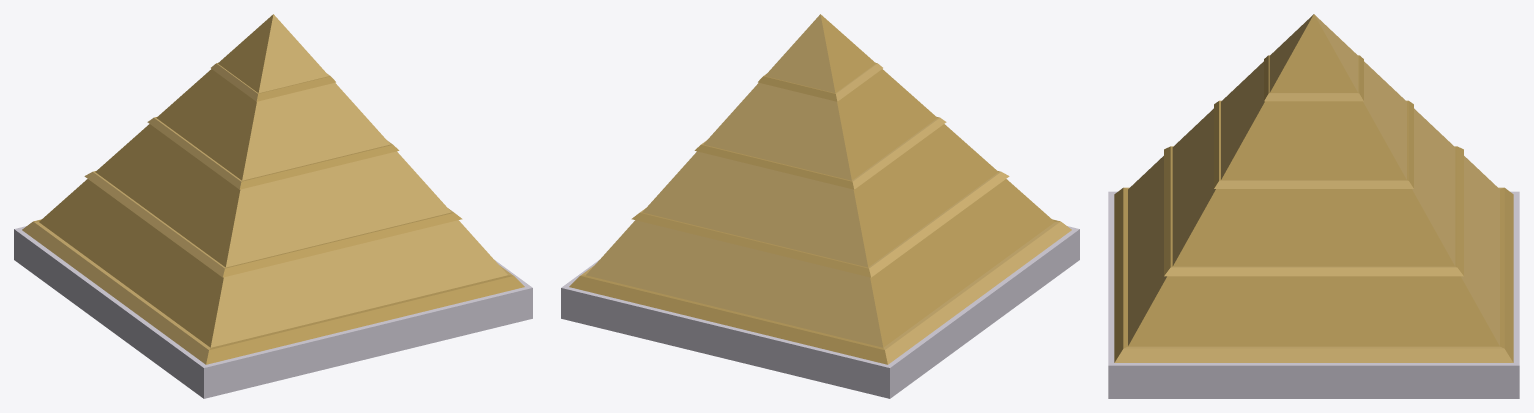
Rendered from desert_big_piramid.fbx.
3 views of the same model, side by side, from view 1: azimuth 30°, elevation 25°; view 2: azimuth 150°, elevation 25°; view 3: azimuth 270°, elevation 25° (orthographic). The views are drawn at different scales.
Visible parts, largest first — view 1: piramid, Cube.027; view 2: piramid, Cube.027; view 3: piramid, Cube.027.
Part boxes in pixels (bbox=[...]): piramid: bbox=[22, 14, 524, 364]; Cube.027: bbox=[14, 226, 532, 398]; piramid: bbox=[569, 14, 1071, 364]; Cube.027: bbox=[561, 226, 1079, 398]; piramid: bbox=[1114, 14, 1513, 362]; Cube.027: bbox=[1108, 191, 1519, 398].
Size of the model in its own units: 271 by 217 by 271.
